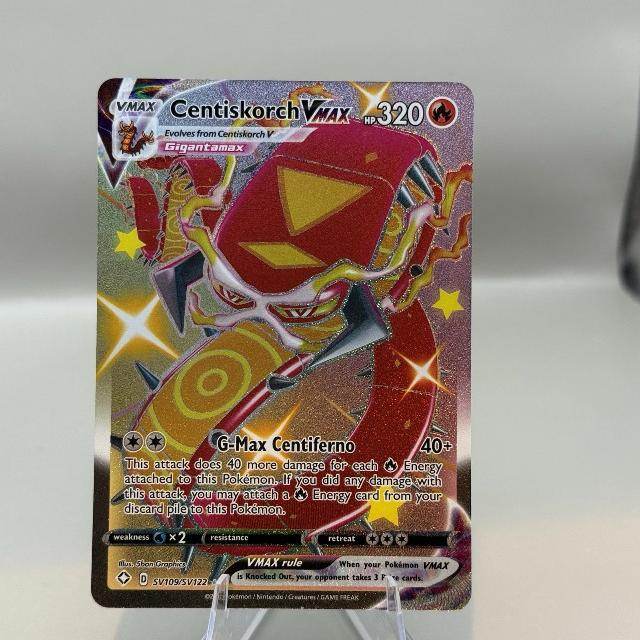Card: (84, 73, 478, 616)
Name: (168, 95, 359, 128)
